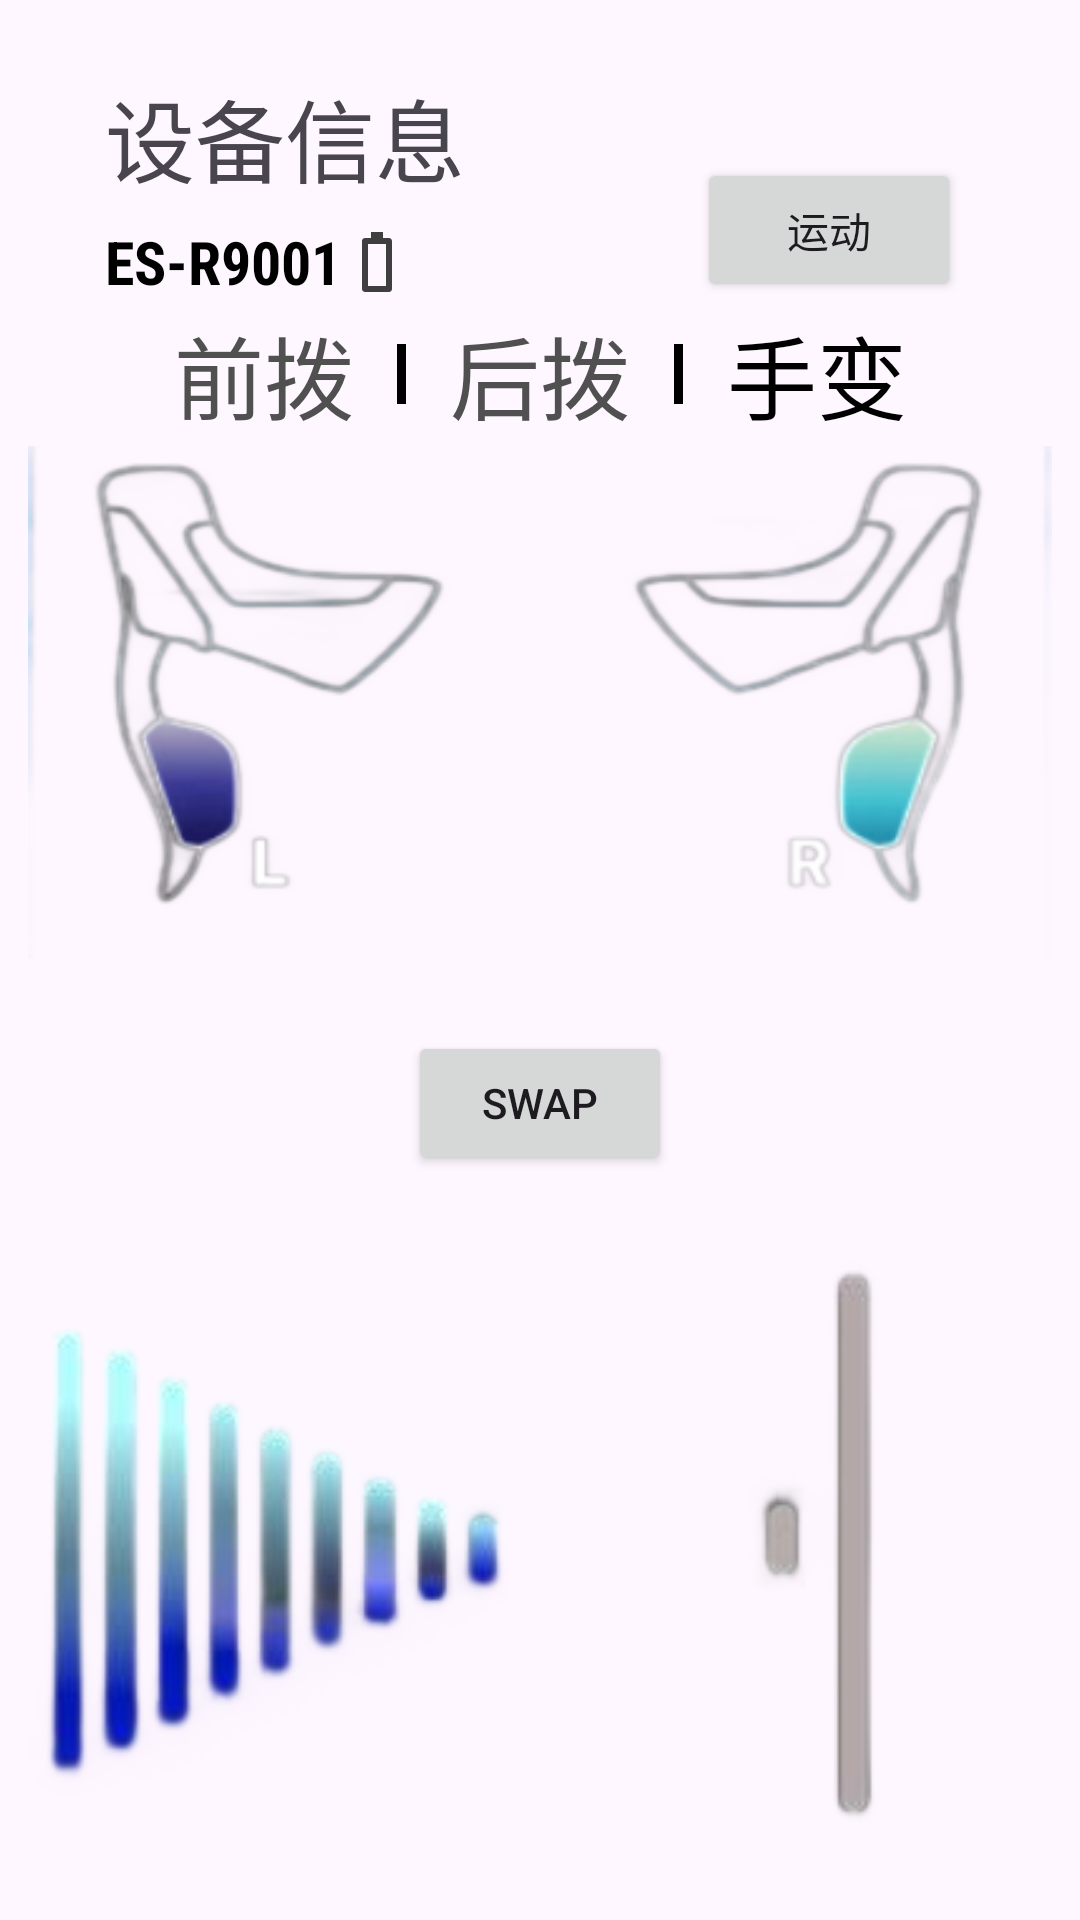

Where to tap for icons on this 1080 × 1920 app screen, as [x,y]:
battery: [377,262]
